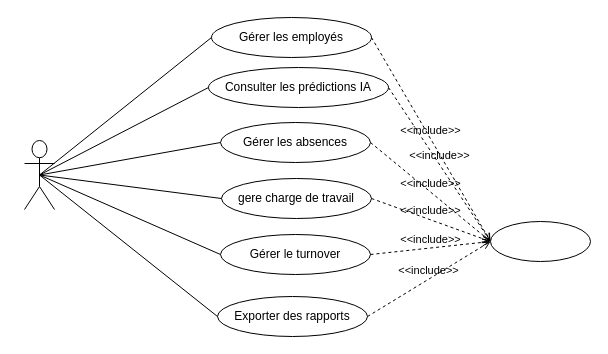
The diagram is 608 pixels wide and 354 high, and some of its shapes have lost their labels. The shapes that lost their labels are listed below. From the top down, each one's centre as x and y in pixels, then its label:
(x=39, y=175): rh agent
(x=540, y=241): s'authentifier
